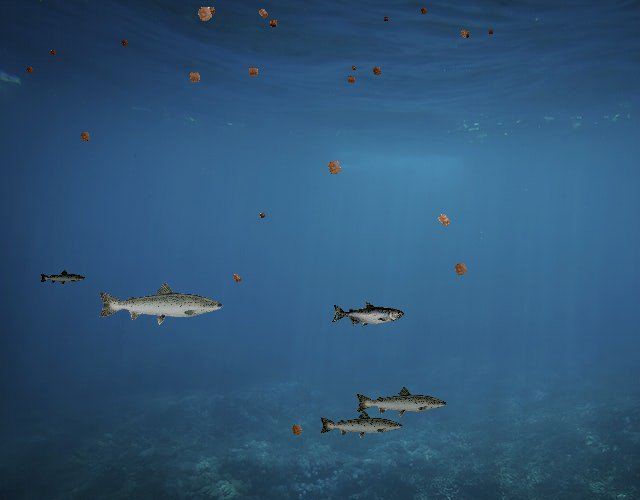Fish: (96, 280, 225, 326), (354, 385, 448, 419), (318, 409, 404, 440), (331, 302, 404, 328), (40, 270, 87, 287)
Pellet: (190, 0, 220, 28), (430, 207, 457, 234), (448, 256, 473, 282), (183, 66, 206, 89), (286, 419, 308, 441), (228, 269, 245, 287), (118, 36, 132, 50), (256, 209, 268, 221)
